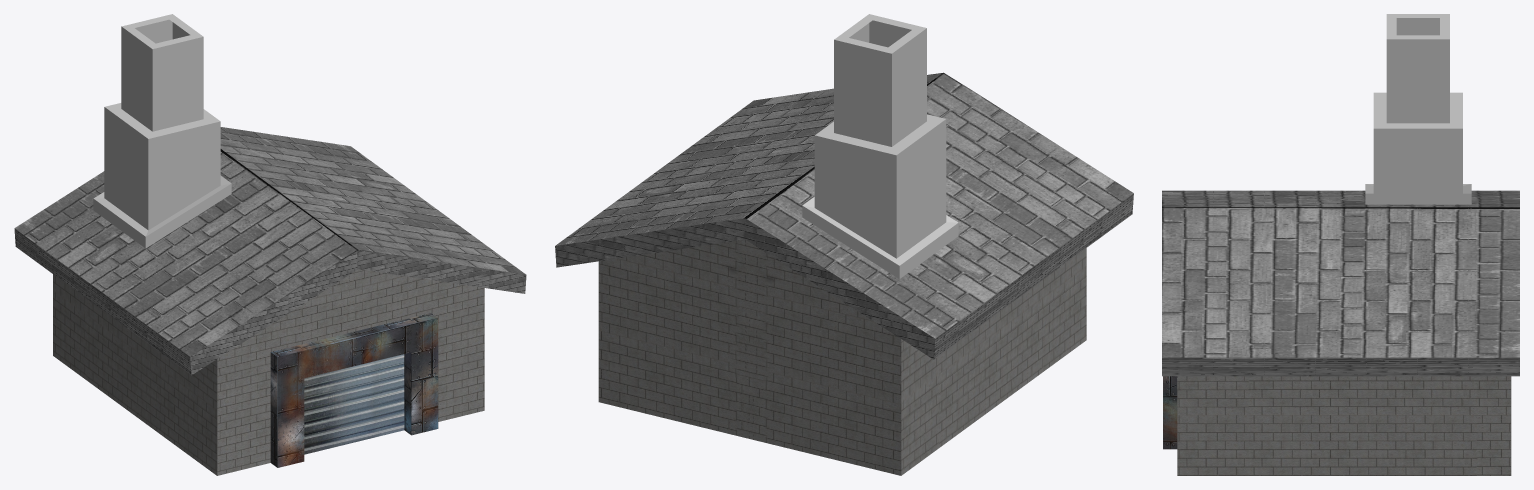
The model's file is metal house.fbx.
The picture shows the model from 3 angles, left to right: view 1: azimuth 30°, elevation 25°; view 2: azimuth 150°, elevation 25°; view 3: azimuth 270°, elevation 25°; orthographic projection. The views are drawn at different scales.
Visible parts, largest first — view 1: Cube.001, Cube, Cube.002, Cube.003; view 2: Cube, Cube.001, Cube.002; view 3: Cube.001, Cube, Cube.002, Cube.003.
Part boxes in pixels (x1=…): Cube.001: x1=14, y1=127, x2=526, y2=375; Cube: x1=53, y1=269, x2=484, y2=475; Cube.002: x1=93, y1=14, x2=231, y2=248; Cube.003: x1=270, y1=313, x2=438, y2=467; Cube: x1=598, y1=239, x2=1086, y2=475; Cube.001: x1=555, y1=72, x2=1133, y2=359; Cube.002: x1=802, y1=14, x2=958, y2=278; Cube.001: x1=1162, y1=190, x2=1519, y2=376; Cube: x1=1177, y1=376, x2=1511, y2=475; Cube.002: x1=1365, y1=14, x2=1471, y2=204; Cube.003: x1=1163, y1=376, x2=1177, y2=449.
Bounding box in the file's own units: 2090 × 2031 × 1892.
